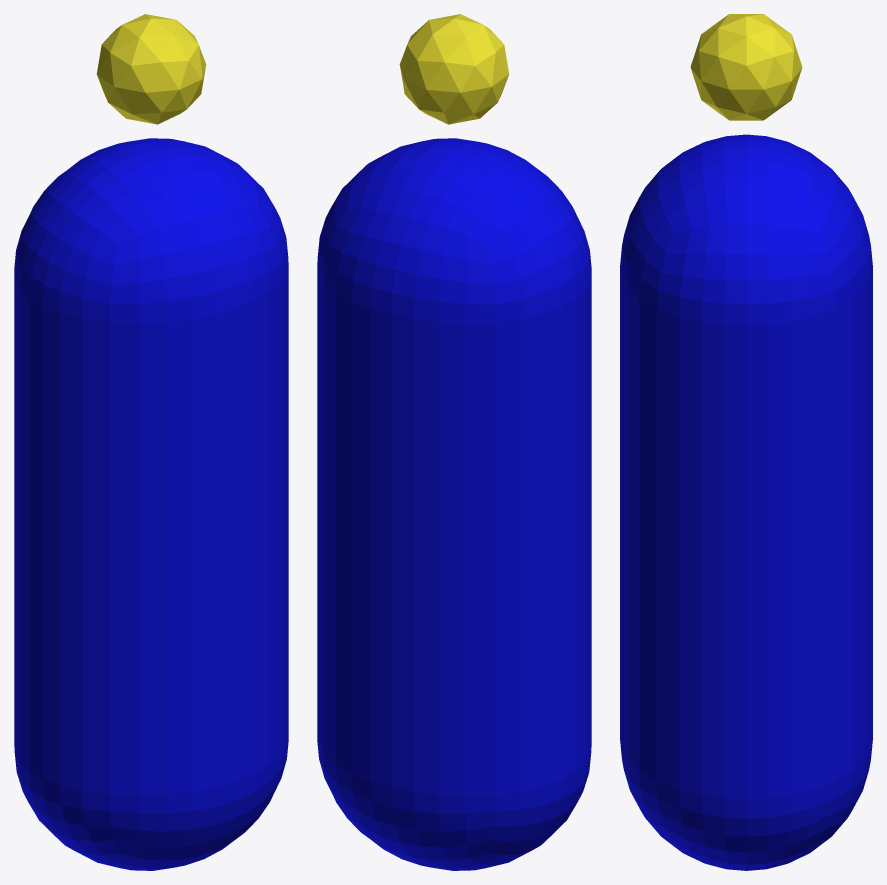
Rendered from Player.glb.
The picture shows the model from 3 angles, left to right: view 1: azimuth 30°, elevation 25°; view 2: azimuth 150°, elevation 25°; view 3: azimuth 270°, elevation 25°; orthographic projection.
Parts seen in each view (by area): view 1: Player, Player_sphere; view 2: Player, Player_sphere; view 3: Player, Player_sphere.
Part boxes in pixels (<box>): Player: <box>14,138,288,870</box>; Player_sphere: <box>96,14,206,124</box>; Player: <box>317,138,591,870</box>; Player_sphere: <box>399,14,509,124</box>; Player: <box>620,134,872,870</box>; Player_sphere: <box>690,14,802,120</box>.
Bounding box in the file's own units: 0.5426 × 1.78 × 0.4856.
